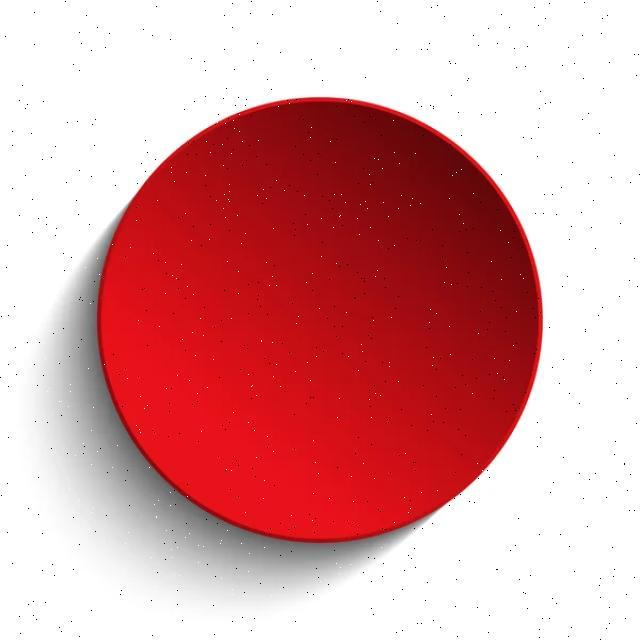Circle: (92, 97, 546, 546)
